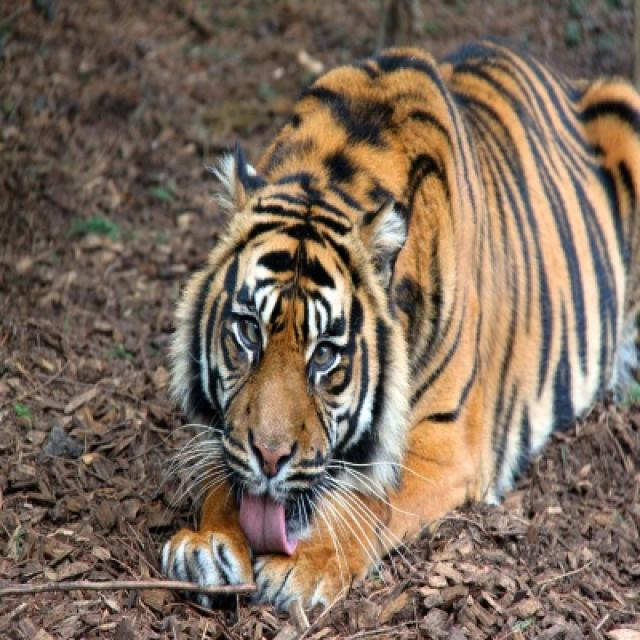Tiger: (162, 37, 638, 621)
